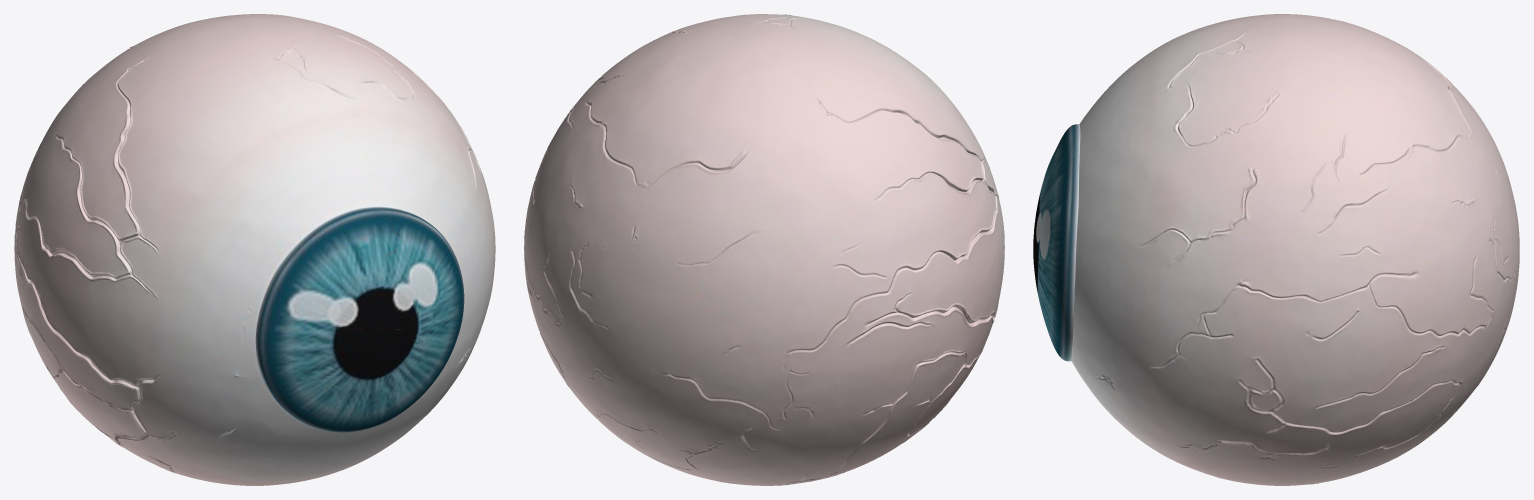
Rendered from eyeball.glb.
3 views of the same model, side by side, from view 1: azimuth 30°, elevation 25°; view 2: azimuth 150°, elevation 25°; view 3: azimuth 270°, elevation 25° (orthographic).
Bounding box in the file's own units: 1.88 × 1.84 × 1.9.
1 material, 1 textured.
